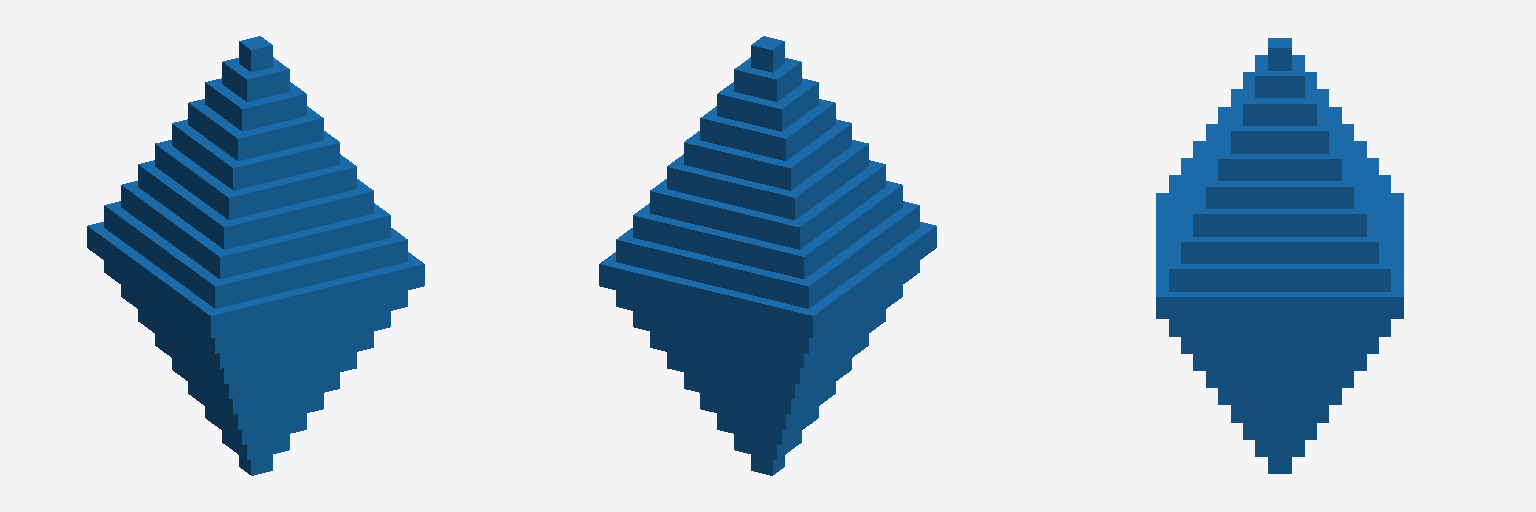
The picture shows the model from 3 angles: view 1: azimuth 30°, elevation 25°; view 2: azimuth 150°, elevation 25°; view 3: azimuth 270°, elevation 25°; orthographic projection.
Parts seen in each view (by area): view 1: object 1; view 2: object 1; view 3: object 1.
Part boxes in pixels (x1,y1,x2,y2): object 1: (87,36,424,475); object 1: (599,36,936,475); object 1: (1156,38,1403,473).
Bounding box in the file's own units: 2 × 3.8 × 2.
Materials: 1 (1 with a texture image).